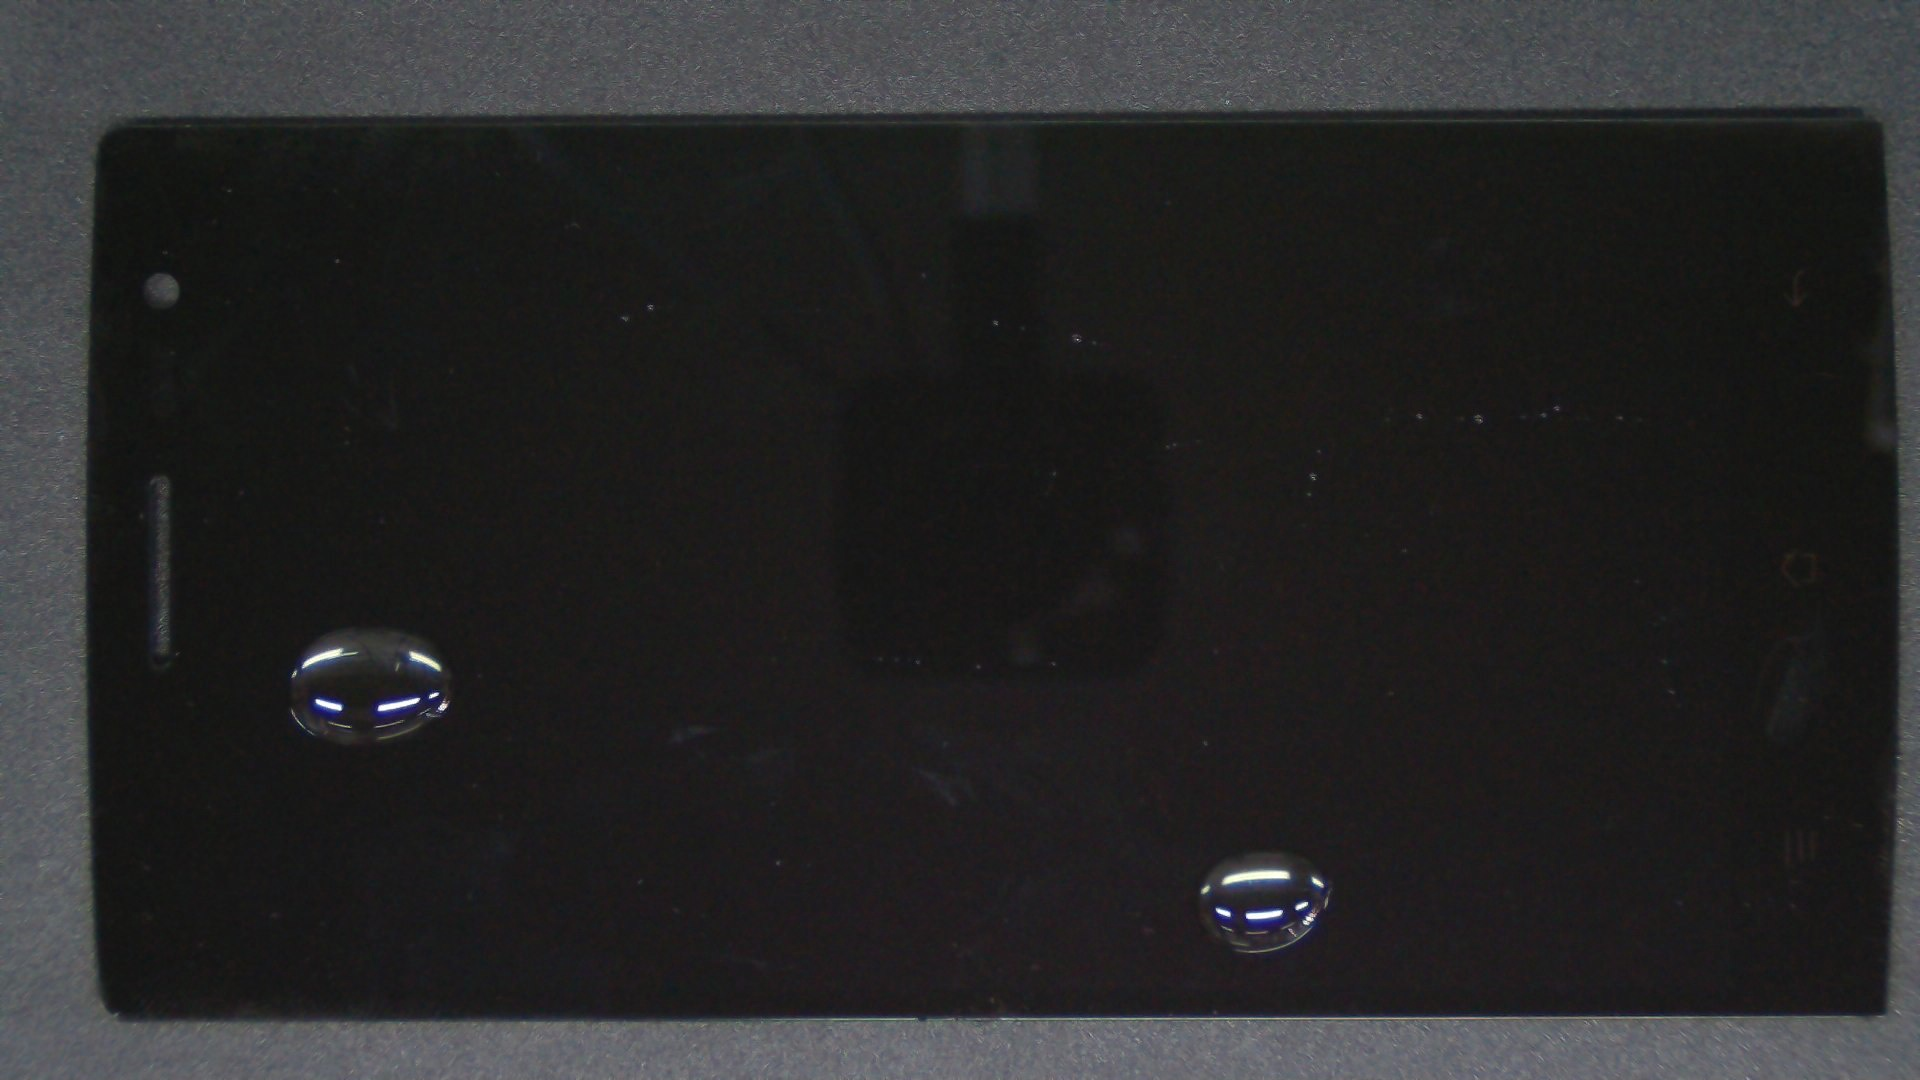oil: (625, 425, 1874, 1080), (175, 314, 525, 943)
